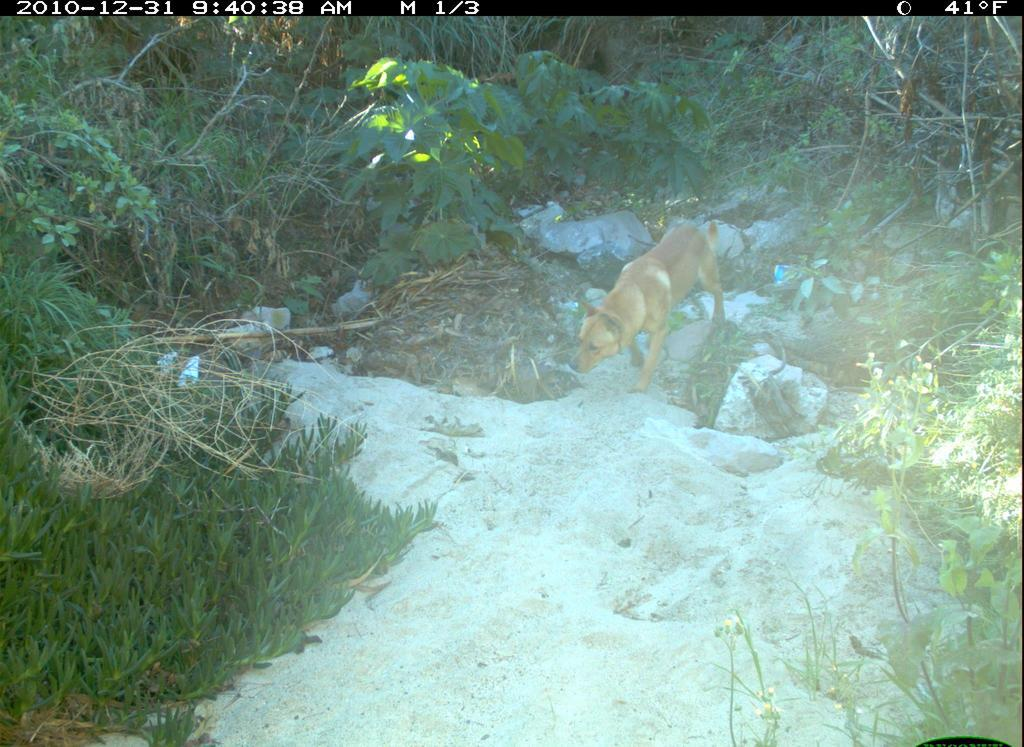dog: (569, 213, 728, 404)
